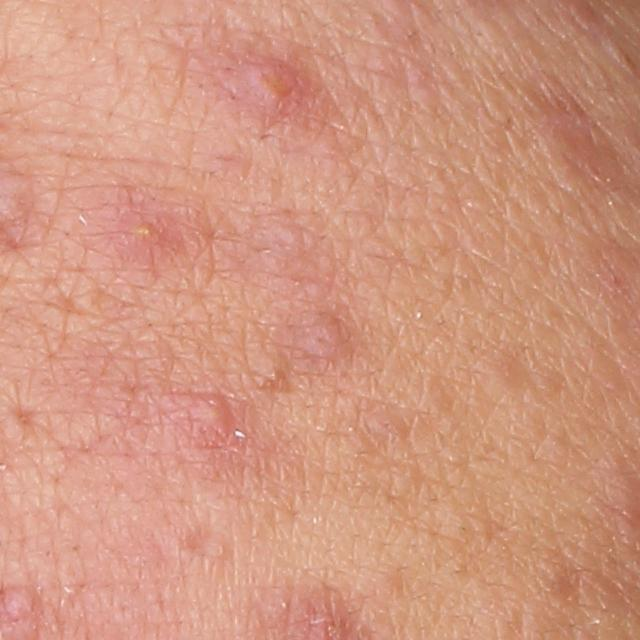comedo: (249, 355, 292, 392)
papule: (219, 55, 334, 147), (171, 390, 246, 476), (113, 206, 180, 272), (286, 308, 358, 369), (1, 582, 41, 624)
